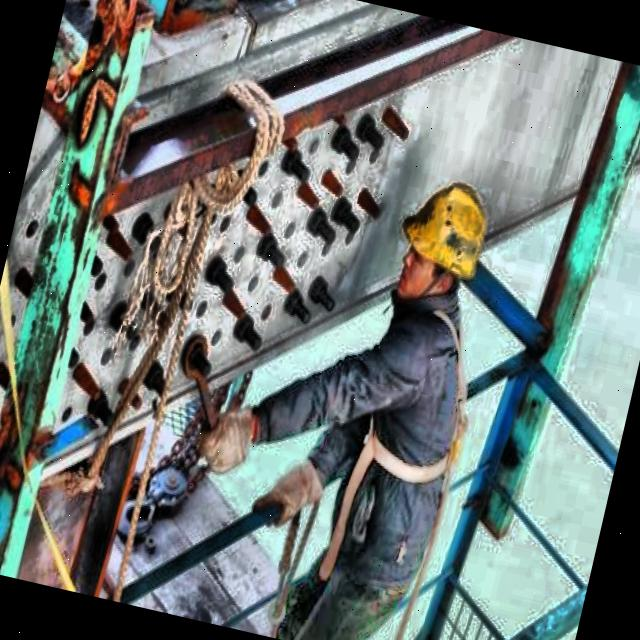helmet: (385, 164, 501, 330)
